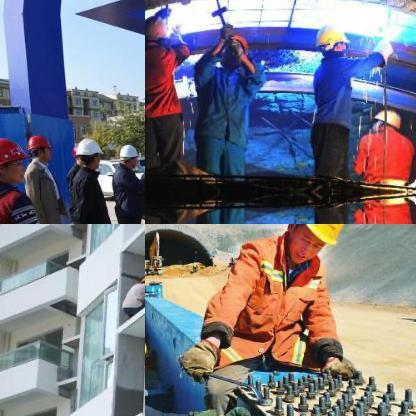Helmet: (275, 224, 353, 264), (0, 134, 26, 182), (317, 22, 345, 54), (75, 134, 101, 167), (368, 106, 398, 134), (223, 32, 245, 66), (24, 131, 50, 159), (145, 14, 166, 45), (117, 142, 137, 166), (137, 273, 144, 290)
